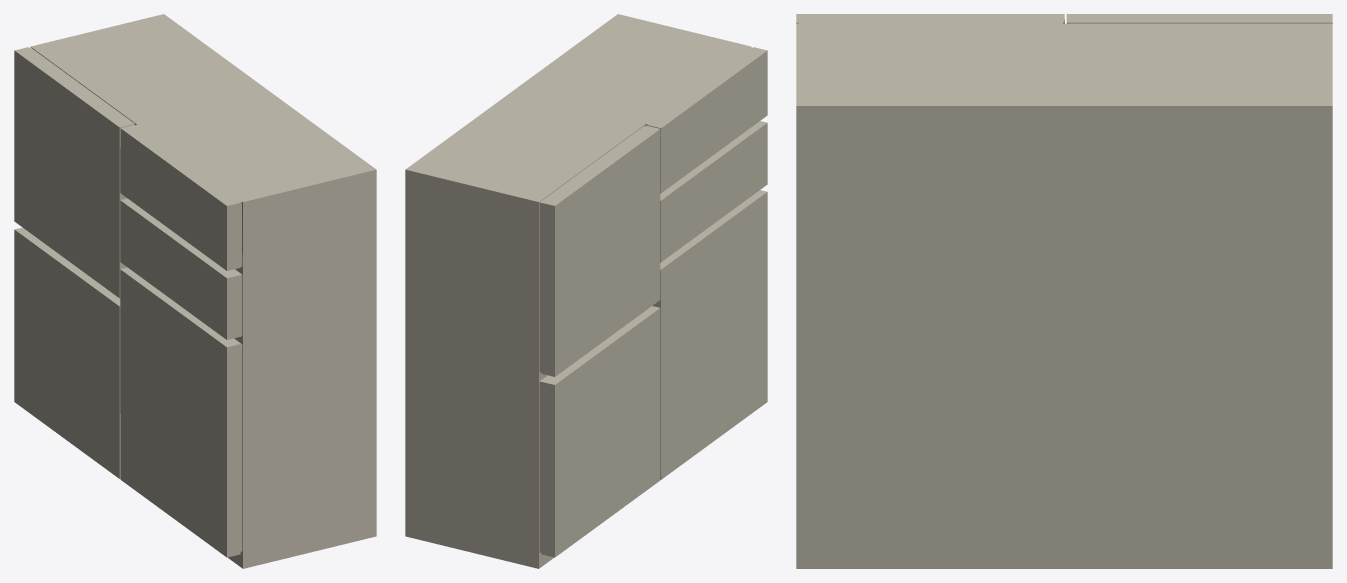
Rendered from kurzer Schrank.glb.
3 views of the same model, side by side, from view 1: azimuth 30°, elevation 25°; view 2: azimuth 150°, elevation 25°; view 3: azimuth 270°, elevation 25° (orthographic). The views are drawn at different scales.
Parts seen in each view (by area): view 1: kurzer Schrank; view 2: kurzer Schrank; view 3: kurzer Schrank.
Boxes of the visible parts, x1,y1,x2,y2 form: kurzer Schrank: (14, 14, 376, 568); kurzer Schrank: (405, 14, 767, 568); kurzer Schrank: (796, 14, 1332, 568).
Size of the model in its own units: 0.78 by 1.83 by 1.92.
